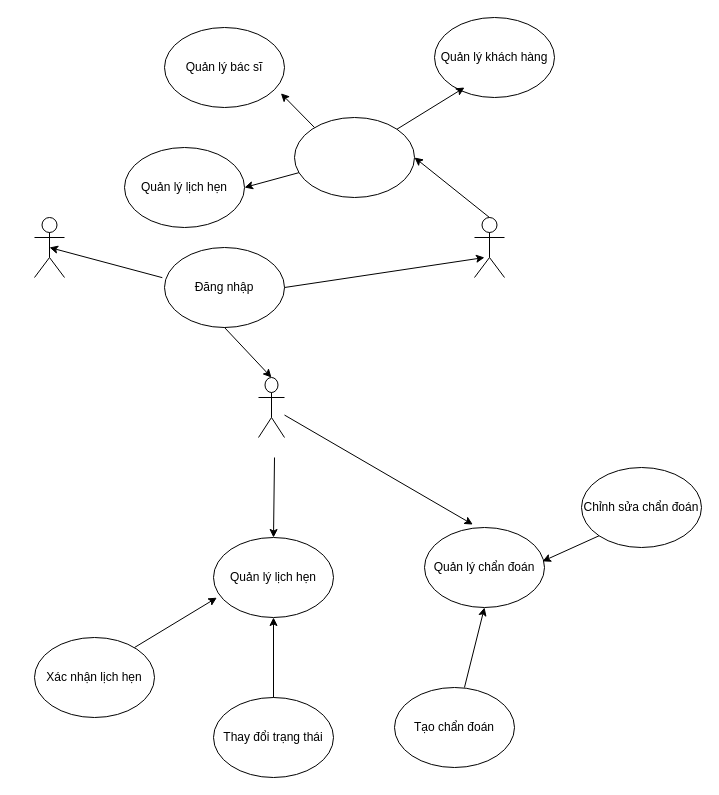
The diagram is 719 pixels wide and 795 high, and some of its shapes have lost their labels. The shapes that lost their labels are listed below. From the top down, each one's centre as x and y in pixels, then its label:
At point 354,157: "Quản lý".
At point 49,247: "Khách hàng".
At point 489,247: "Admin".
At point 271,407: "Bác sĩ".
